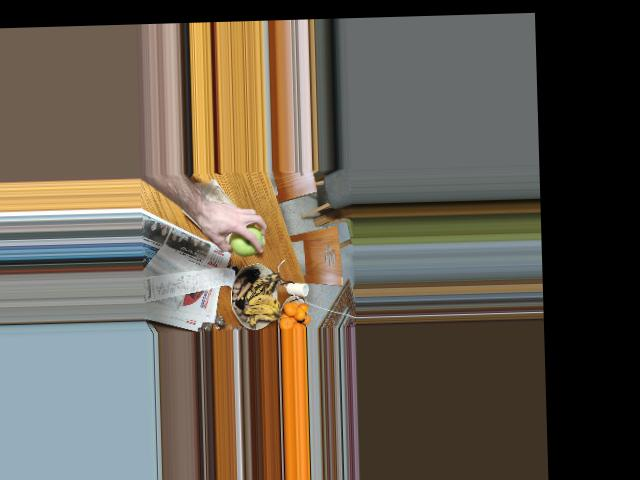apple: (227, 224, 264, 256)
